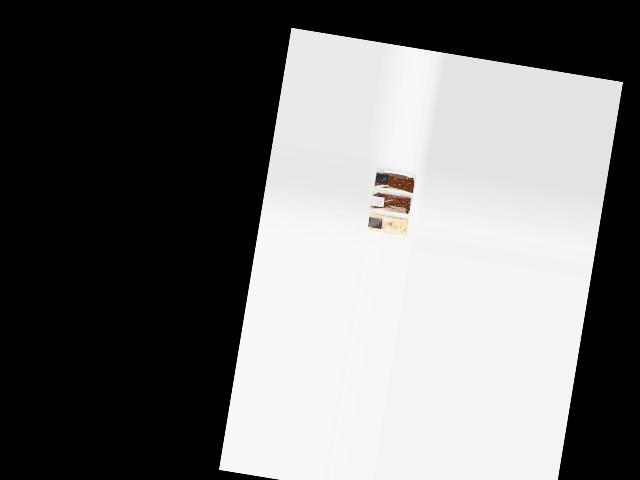chocolate: (374, 164, 420, 195)
